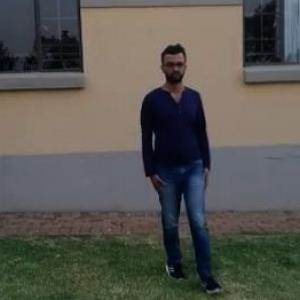follow: (141, 44, 208, 274)
